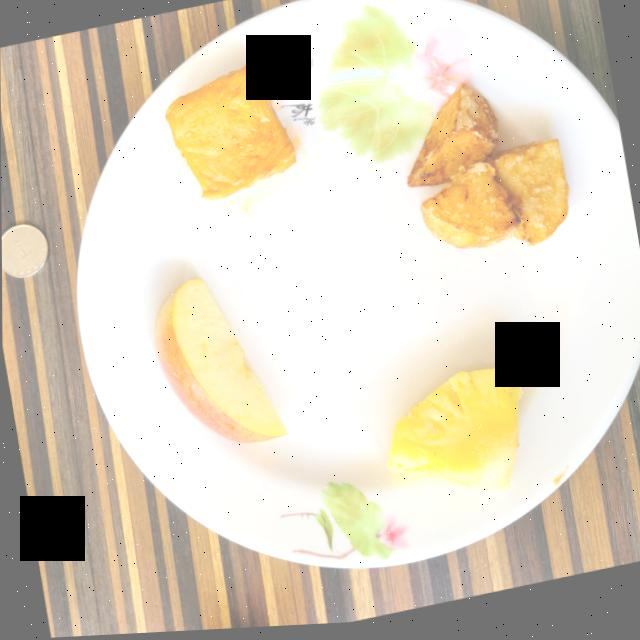apple -sliced-: (154, 280, 286, 445)
coin: (1, 223, 48, 277)
creamy tofu: (165, 65, 296, 201)
pineapple: (407, 88, 569, 253), (386, 370, 522, 494)
